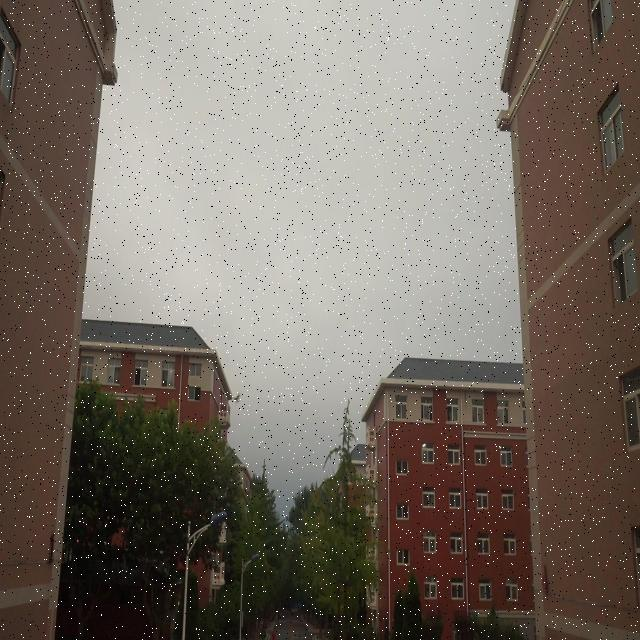UAV: (233, 393, 243, 404)
